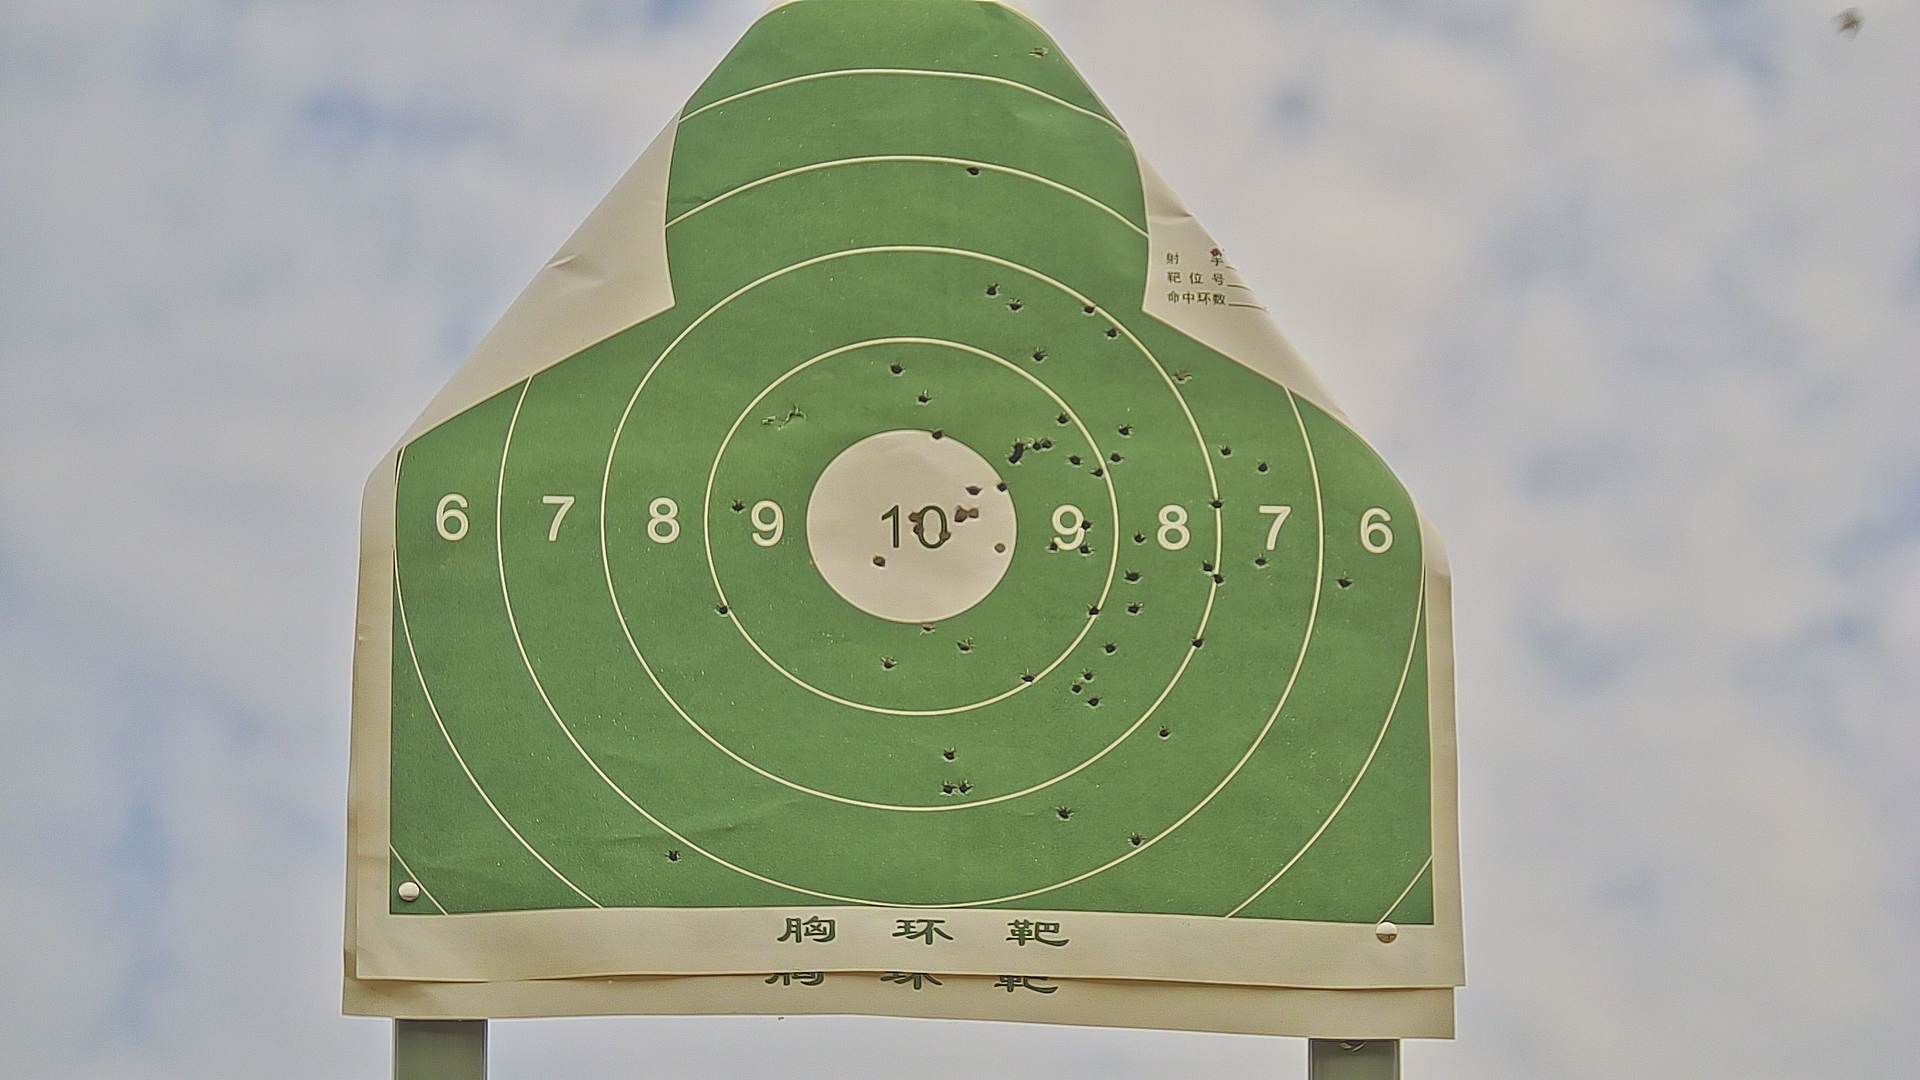hole: (953, 773, 976, 795), (1052, 800, 1073, 824), (963, 164, 985, 185), (868, 549, 887, 572), (1125, 828, 1145, 849), (1335, 574, 1358, 591), (890, 357, 909, 378), (1251, 459, 1273, 477), (1172, 371, 1192, 389), (1216, 443, 1236, 462), (1250, 553, 1269, 572), (1033, 345, 1050, 367), (880, 651, 897, 673), (927, 425, 949, 440), (1129, 529, 1151, 545), (1120, 567, 1142, 583), (1191, 629, 1207, 651), (1125, 601, 1149, 616), (953, 636, 973, 653), (1083, 694, 1104, 709), (729, 496, 746, 514), (1007, 436, 1025, 455), (666, 845, 683, 864), (1098, 640, 1118, 655), (1044, 535, 1059, 556), (1156, 724, 1178, 738), (1030, 44, 1047, 61), (1085, 603, 1102, 620), (713, 603, 732, 618), (1114, 421, 1133, 436), (1208, 496, 1226, 512), (938, 778, 953, 796), (918, 621, 938, 636), (939, 745, 960, 758), (1007, 297, 1025, 313), (907, 509, 924, 525), (1108, 448, 1124, 465), (916, 386, 928, 407), (953, 502, 965, 524), (1102, 324, 1120, 339), (1067, 451, 1081, 468), (1077, 539, 1092, 556), (1199, 559, 1216, 574), (910, 524, 924, 539), (982, 282, 1000, 295), (1042, 433, 1054, 451), (969, 502, 982, 518), (965, 480, 978, 496), (996, 479, 1009, 495), (1083, 669, 1096, 684), (1069, 680, 1083, 696), (1209, 574, 1226, 585), (1055, 413, 1073, 423), (936, 527, 951, 541), (1007, 452, 1021, 467), (1019, 671, 1035, 683), (1083, 299, 1093, 316), (1030, 436, 1040, 454), (1077, 518, 1095, 529), (1092, 465, 1105, 479), (992, 541, 1004, 553)
target: (394, 1, 1436, 922)
ten: (799, 425, 1017, 625)
